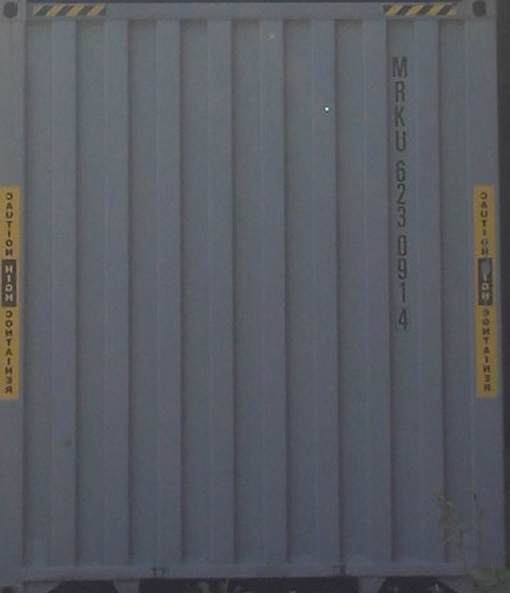container_no_door: (5, 8, 494, 590)
